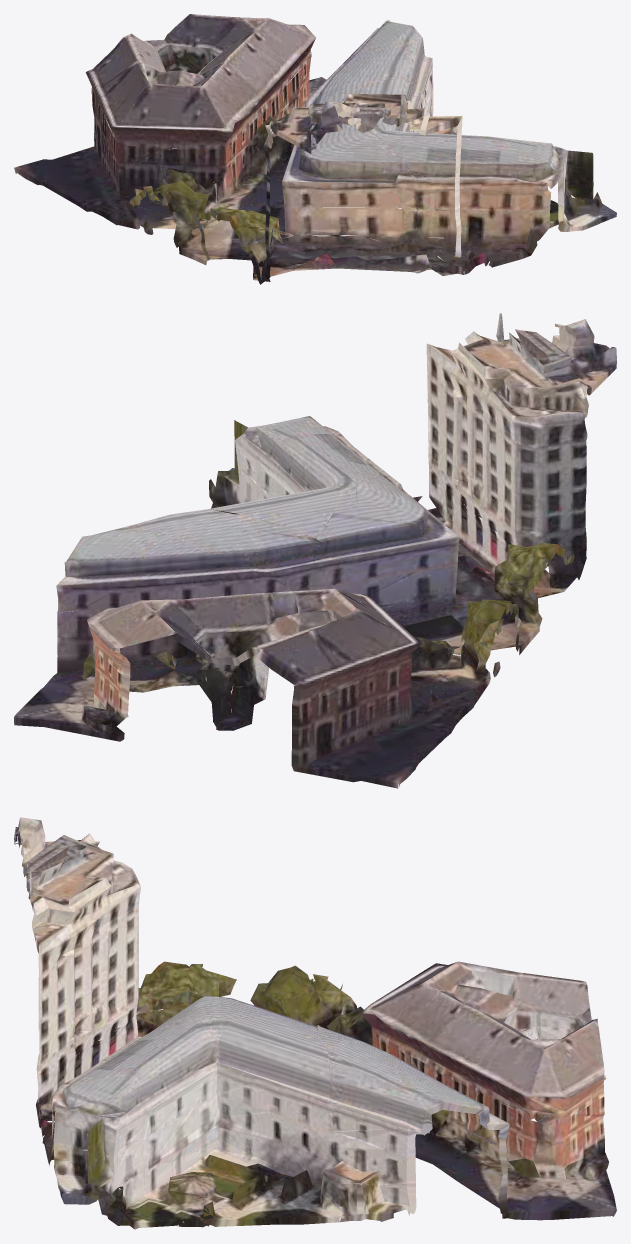
The picture shows the model from 3 angles, top to bottom: view 1: azimuth 30°, elevation 25°; view 2: azimuth 150°, elevation 25°; view 3: azimuth 270°, elevation 25°; orthographic projection. The views are drawn at different scales.
Parts seen in each view (by area): view 1: Mesh_0; view 2: Mesh_0; view 3: Mesh_0.
Part boxes in pixels (x1,y1,x2,y2): Mesh_0: (14,14,616,284); Mesh_0: (14,313,616,788); Mesh_0: (14,817,616,1229).
Bounding box in the file's own units: 66.56 × 39.84 × 82.54.
2 materials, 2 textured.
